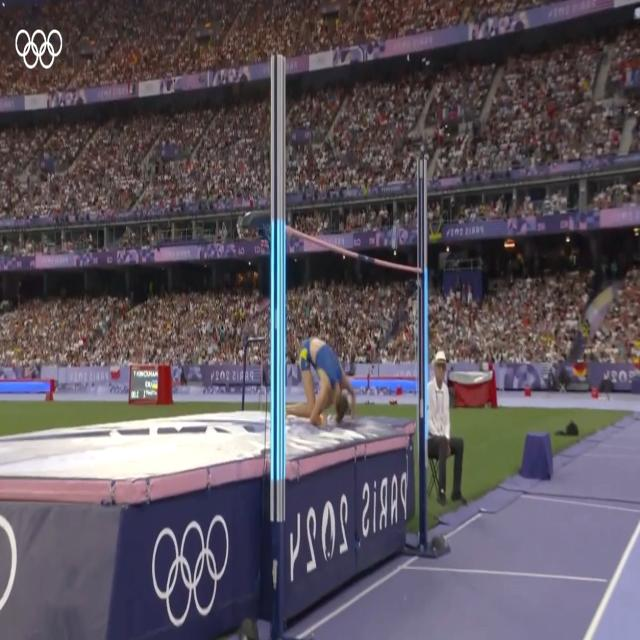land: (293, 334, 352, 429)
